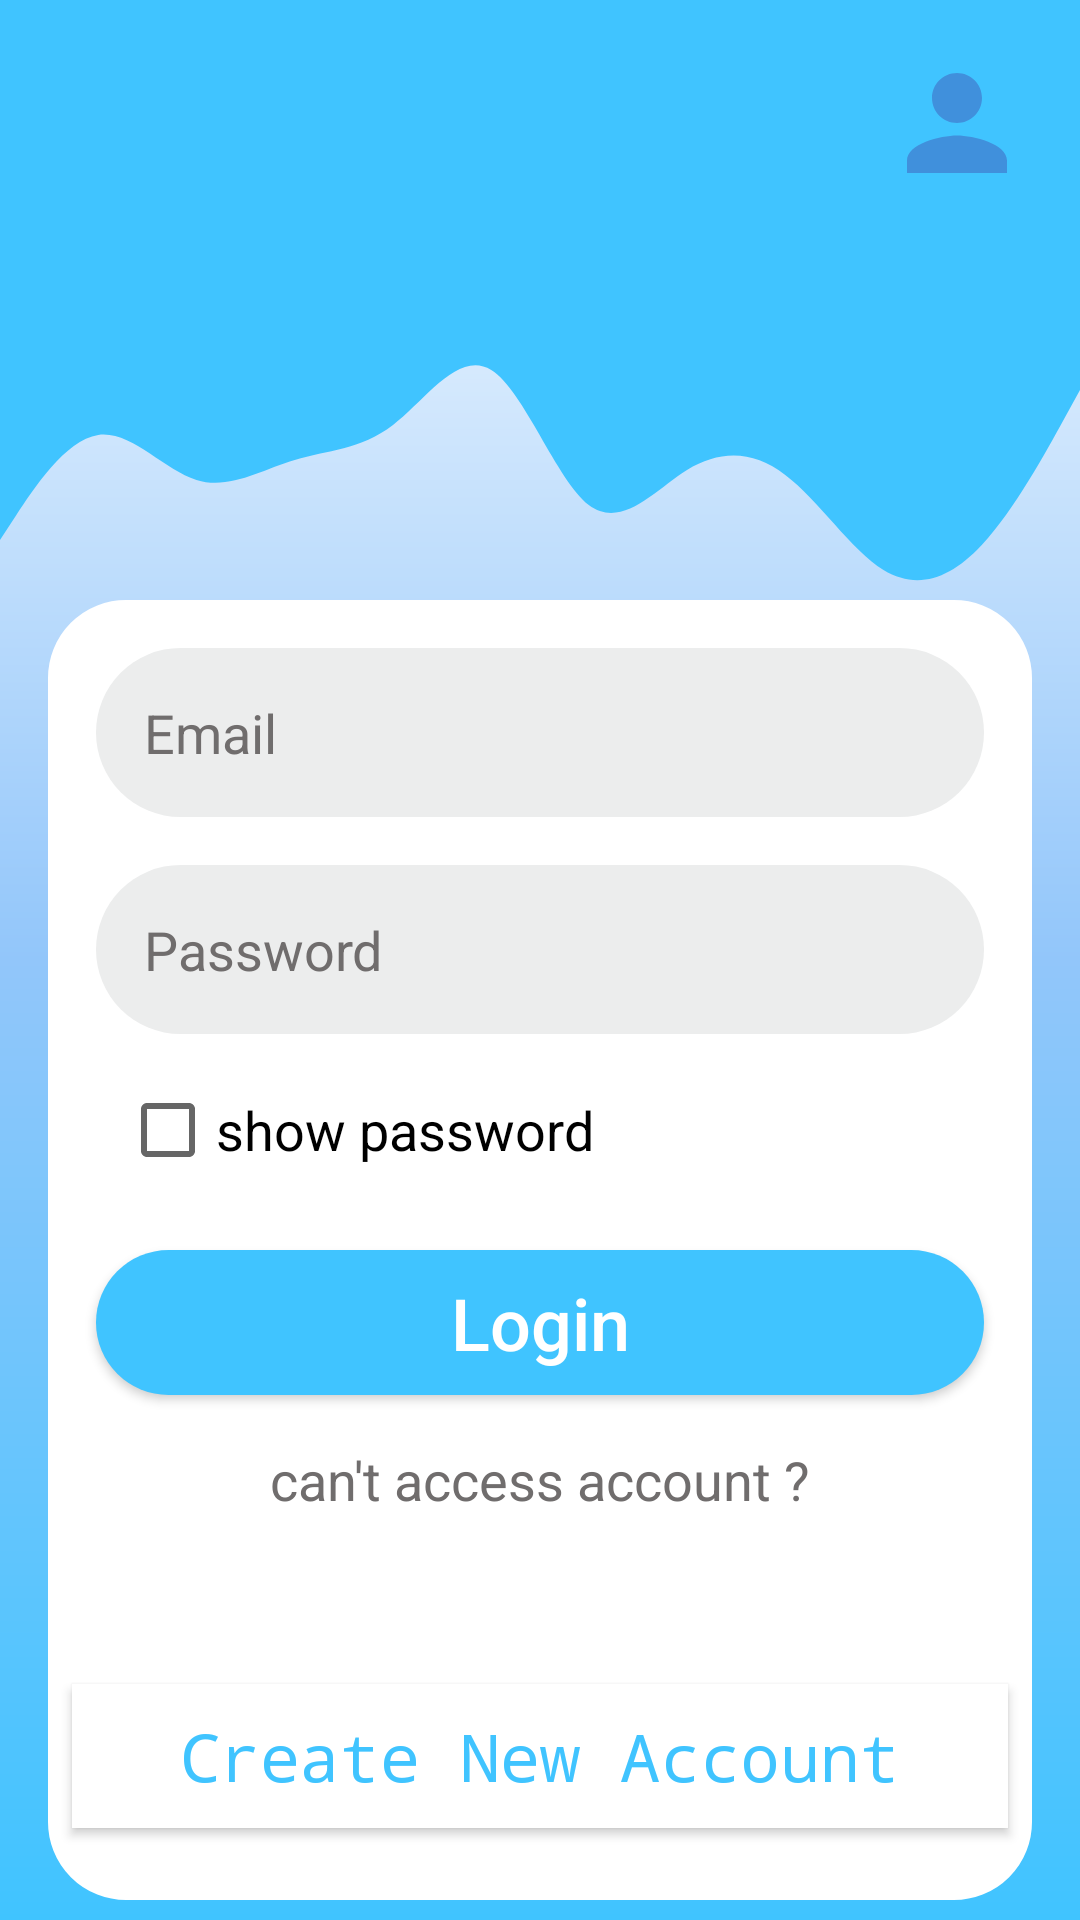

Icons on this 1080 x 1920 Android screen, each with the point to tap as [x,y]:
person: [957,123]
